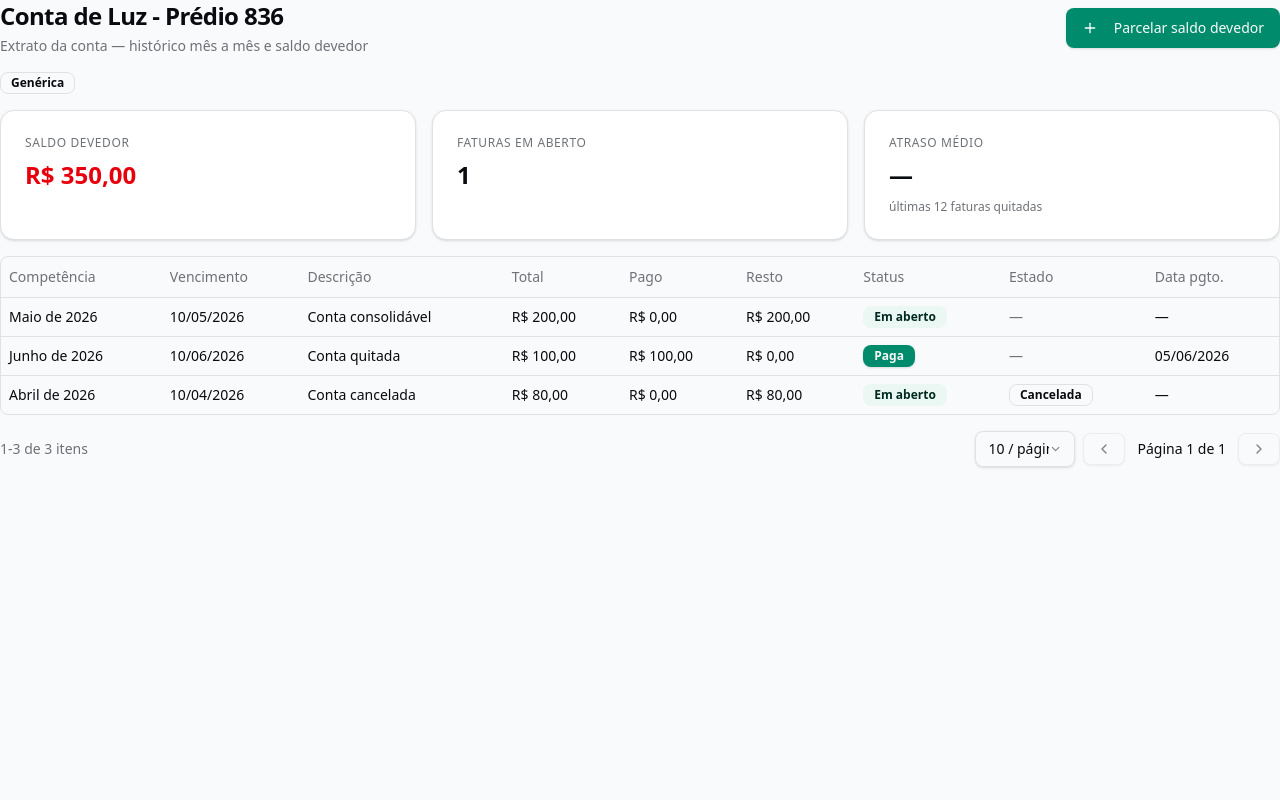
Test case: AccountDetailPage › admin abre o dialog de consolidação apenas com as bills consolidáveis (resto>0, não-canceladas)
The width and height of the screenshot is (1280, 800).
Click the button "Parcelar saldo devedor": (1173, 28) left=1066, top=8, right=1279, bottom=48
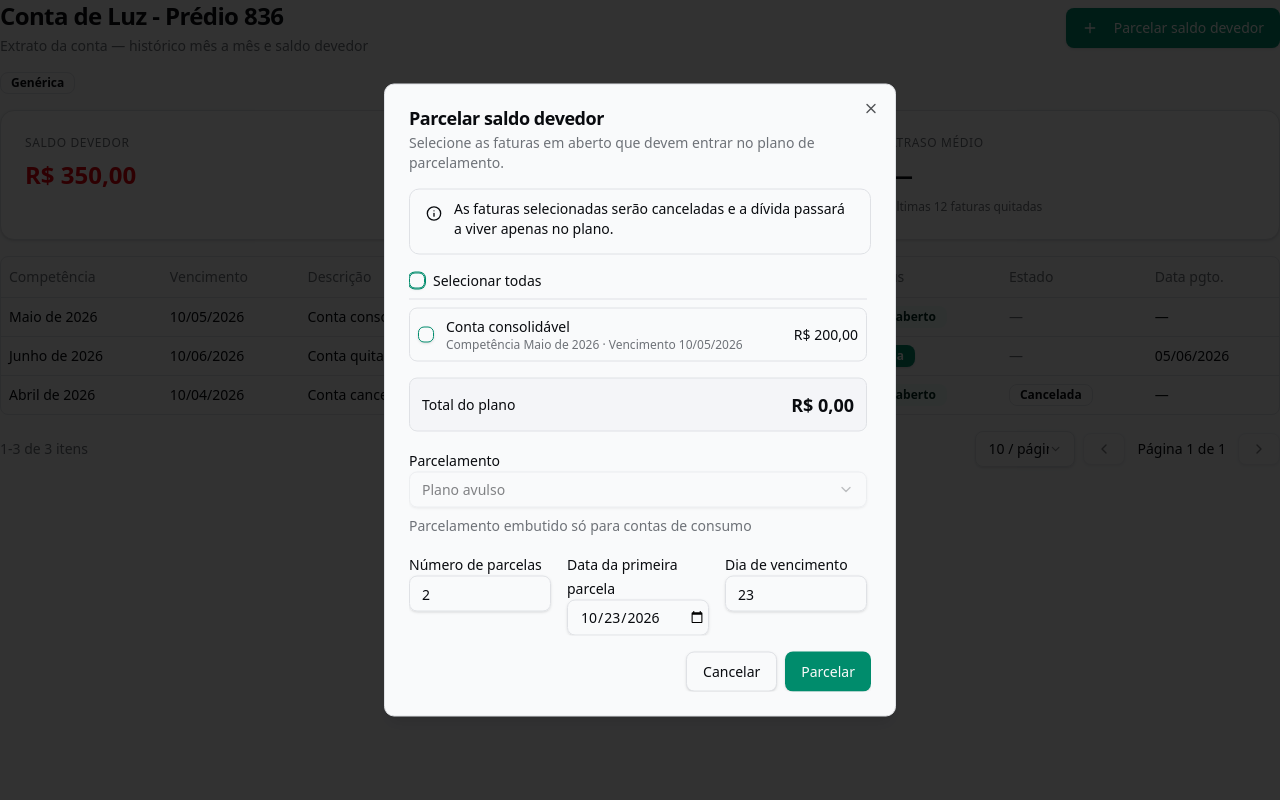
Expected: the text "Conta consolidável" is shown, left=446, top=316, right=570, bottom=336
